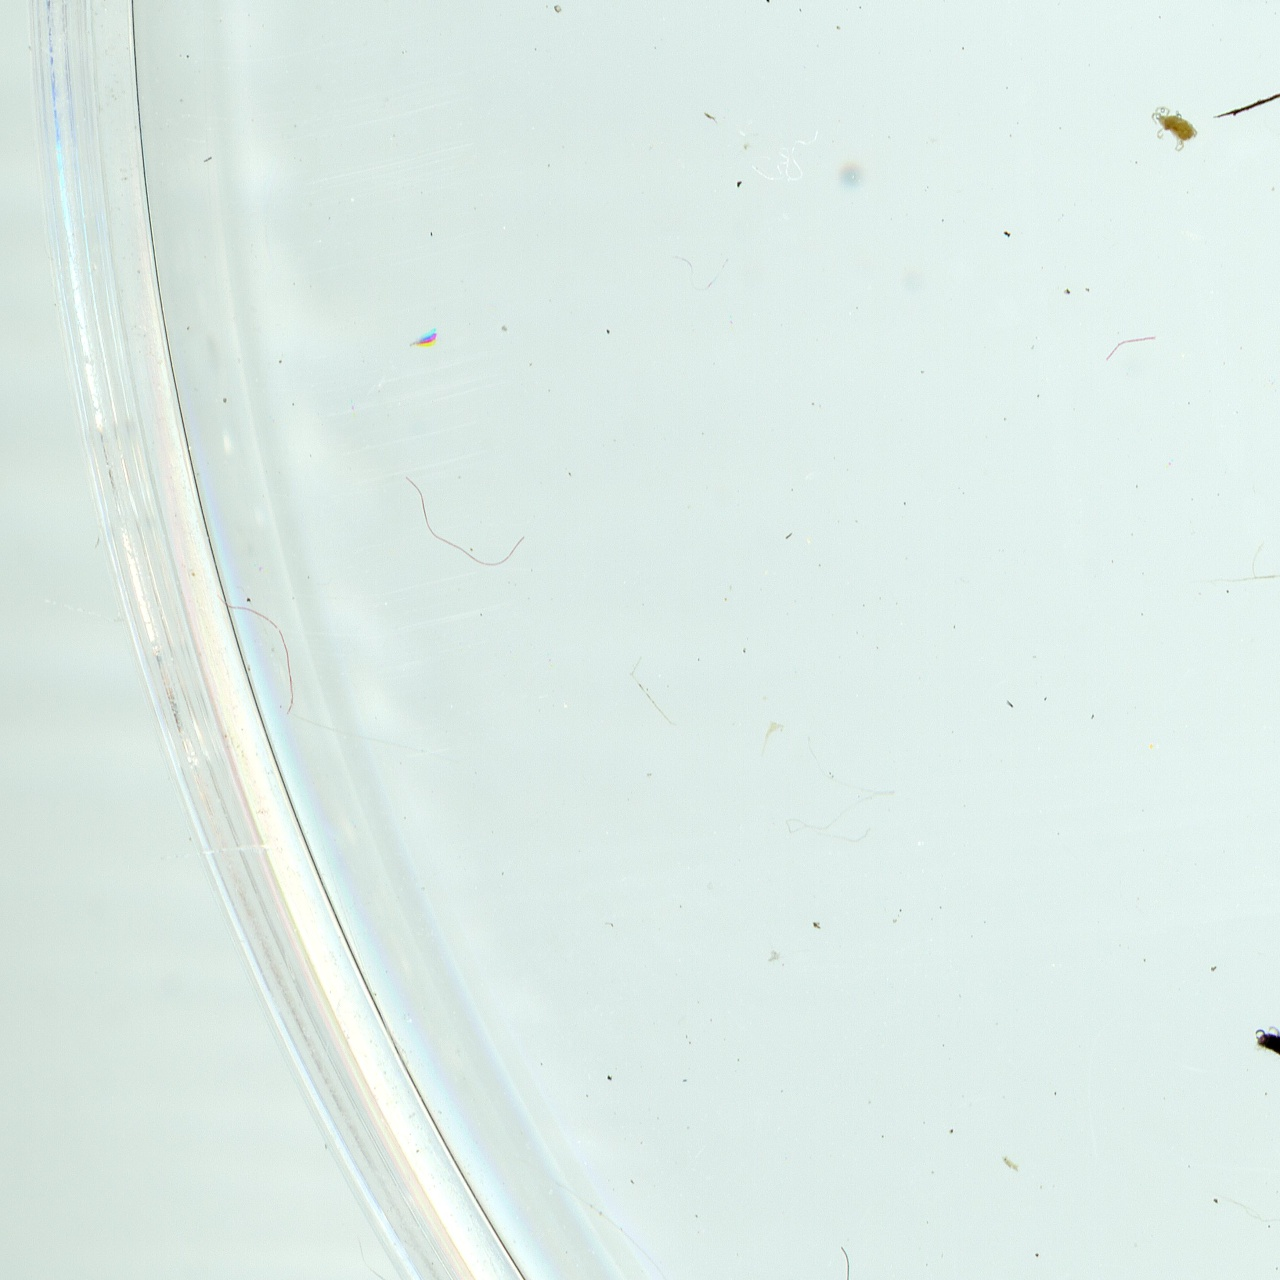arthropod: (1148, 101, 1204, 159), (1249, 1020, 1280, 1087), (405, 330, 441, 352)
